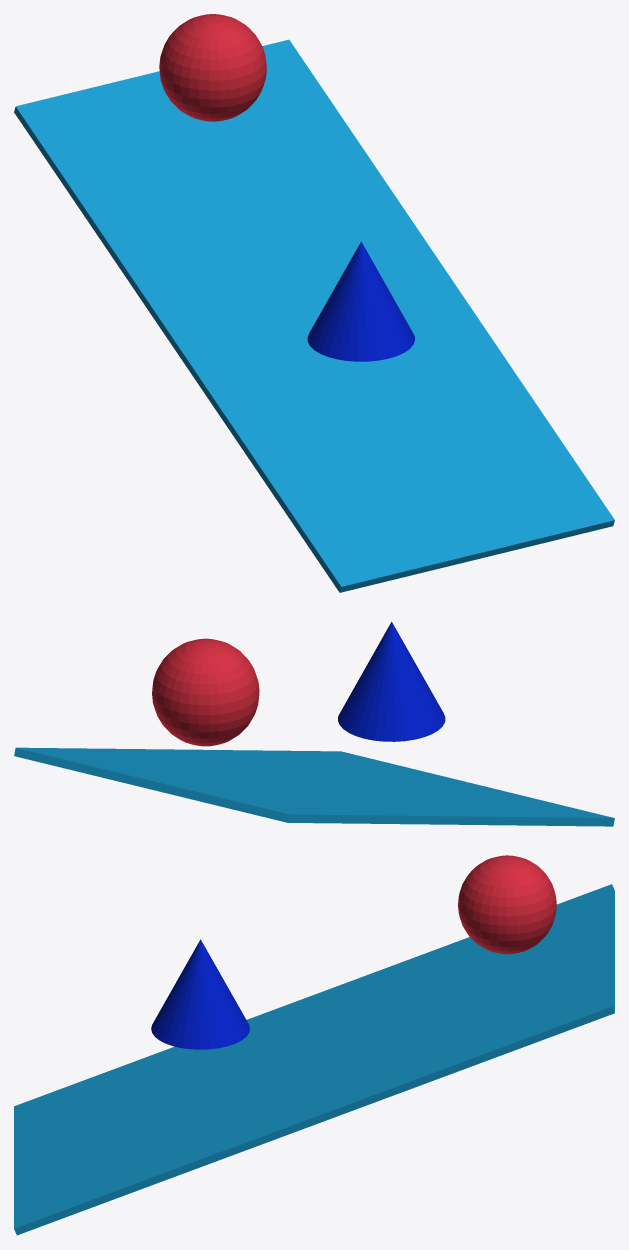
The model's file is testScene.fbx.
3 renders of one model, top to bottom at view 1: azimuth 30°, elevation 25°; view 2: azimuth 150°, elevation 25°; view 3: azimuth 270°, elevation 25°, orthographic. The views are drawn at different scales.
Parts seen in each view (by area): view 1: ramp_model, sphere_model, cone_model; view 2: ramp_model, sphere_model, cone_model; view 3: ramp_model, sphere_model, cone_model.
Part boxes in pixels (x1=…): ramp_model: x1=14, y1=39, x2=614, y2=592; sphere_model: x1=159, y1=14, x2=266, y2=121; cone_model: x1=307, y1=241, x2=414, y2=361; ramp_model: x1=14, y1=747, x2=614, y2=826; sphere_model: x1=152, y1=638, x2=259, y2=746; cone_model: x1=338, y1=621, x2=445, y2=741; ramp_model: x1=14, y1=884, x2=614, y2=1235; sphere_model: x1=458, y1=855, x2=556, y2=954; cone_model: x1=151, y1=939, x2=249, y2=1049.
Size of the model in its own units: 586 by 704 by 1214.
